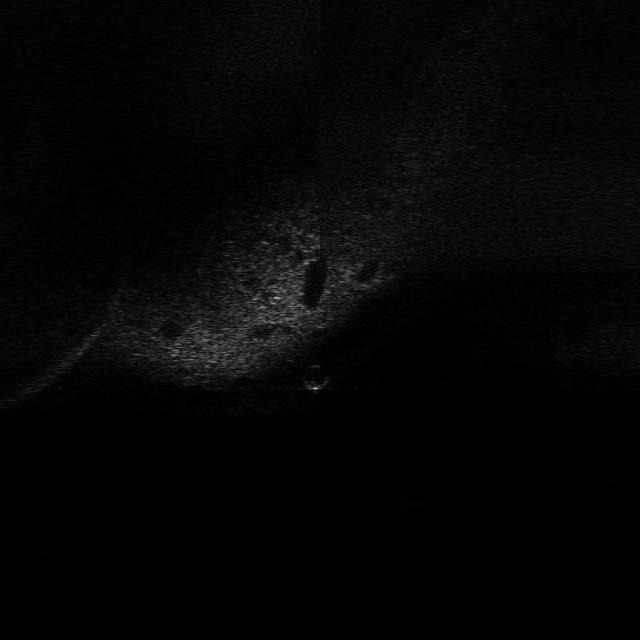ball: (296, 359, 336, 394)
